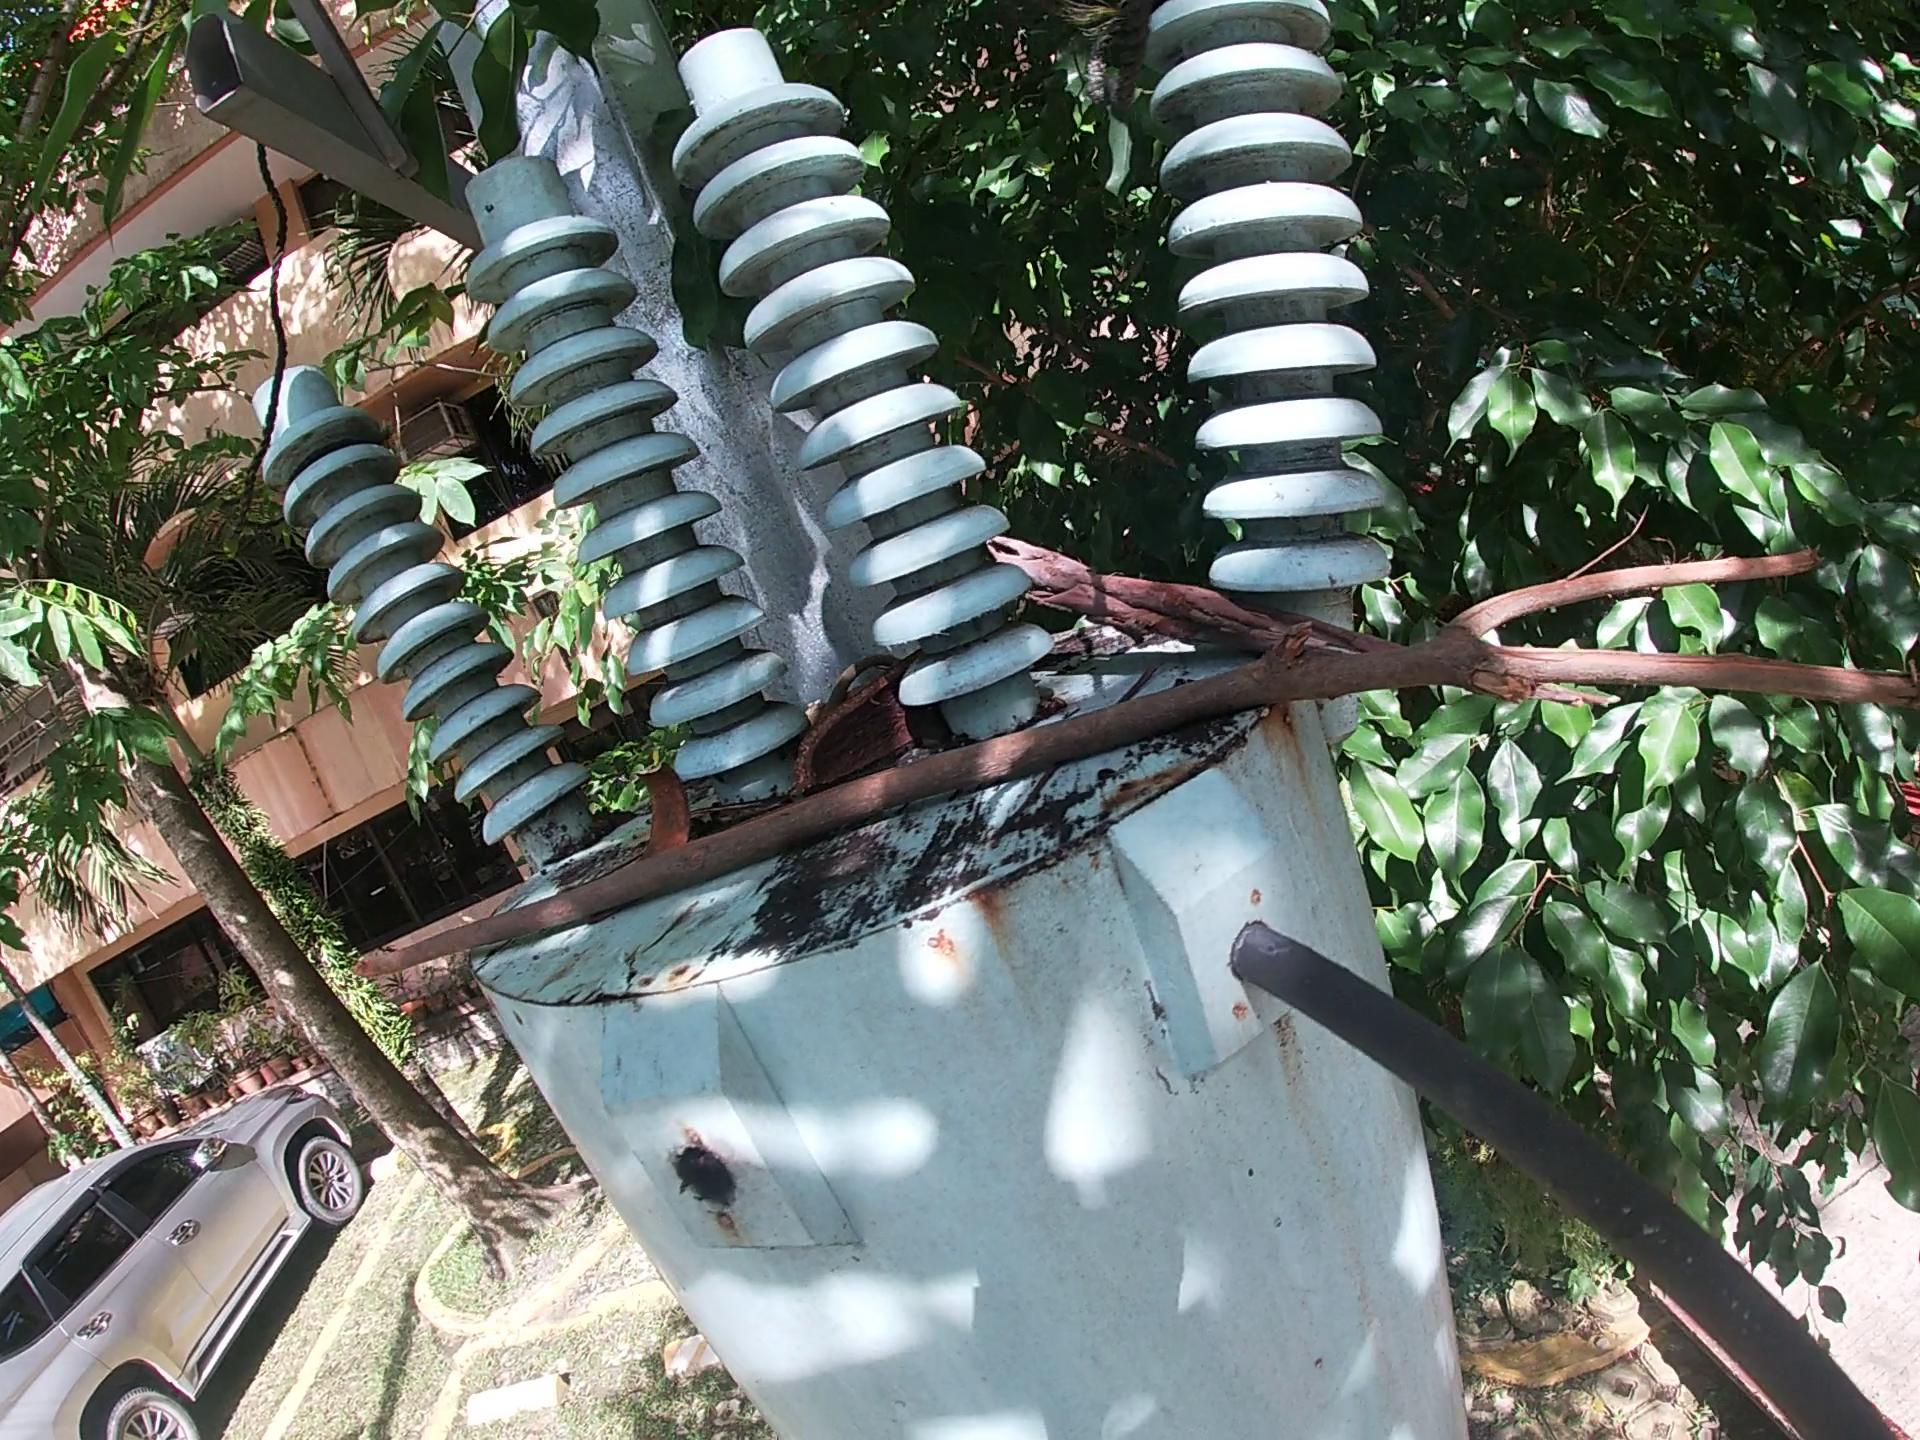mahogany fruit: (786, 644, 928, 802), (633, 752, 700, 862)
tree branch: (345, 538, 1920, 1001), (980, 532, 1634, 725)
